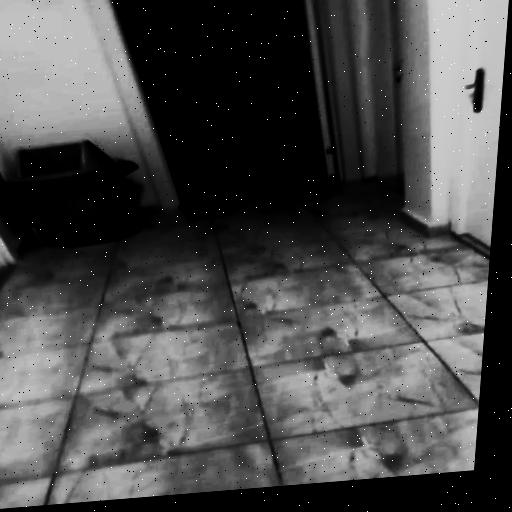balloon: (262, 152, 319, 188)
